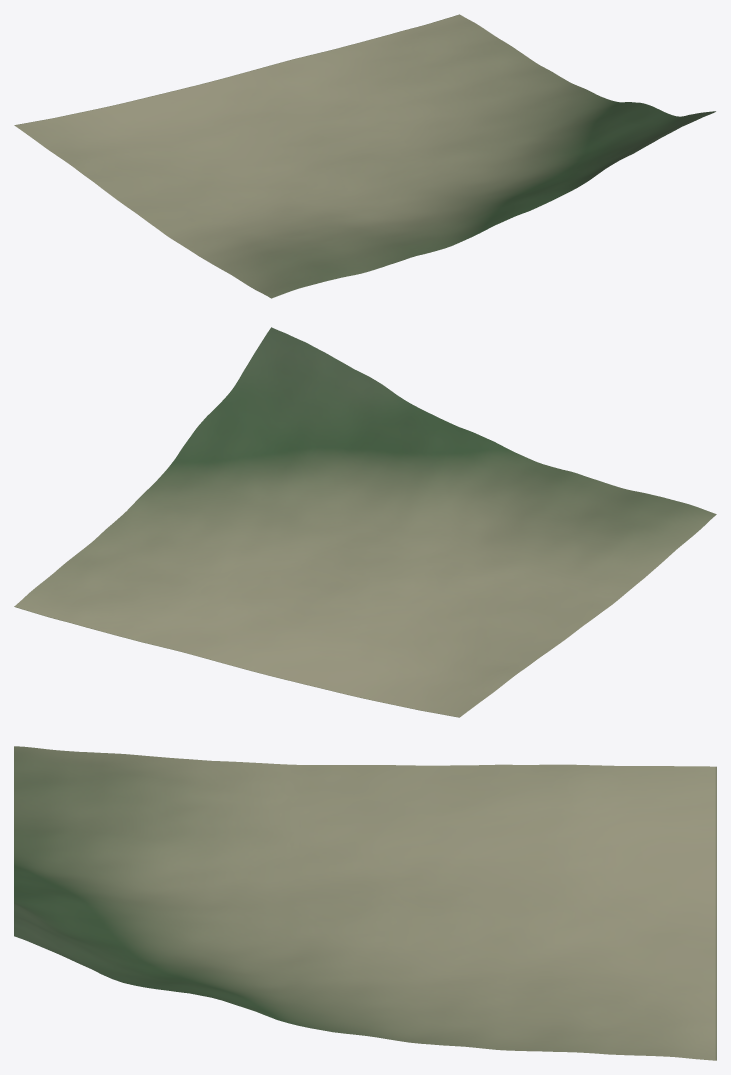
Rendered from chunk_0_1.obj.
3 renders of one model, top to bottom at view 1: azimuth 30°, elevation 25°; view 2: azimuth 150°, elevation 25°; view 3: azimuth 270°, elevation 25°, orthographic. The views are drawn at different scales.
Parts seen in each view (by area): view 1: chunk_0_1.obj; view 2: chunk_0_1.obj; view 3: chunk_0_1.obj.
Part boxes in pixels (x1,y1,x2,y2): chunk_0_1.obj: (14,14,715,298); chunk_0_1.obj: (14,327,716,717); chunk_0_1.obj: (14,746,716,1060).
Size of the model in its own units: 64 by 13.45 by 64.
1 material, 1 textured.
